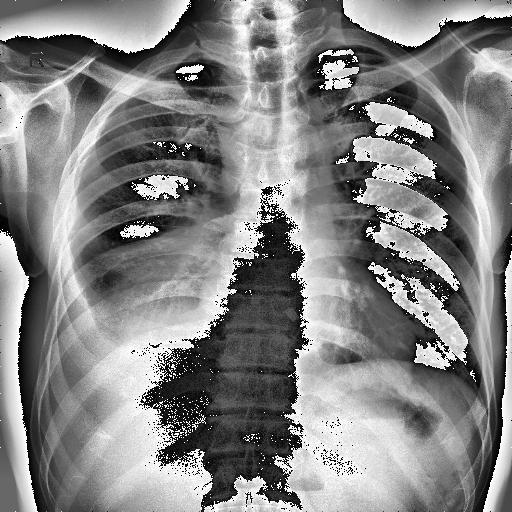10- Pleural effusion: (44, 247, 216, 388), (50, 231, 186, 384), (60, 266, 213, 392)
4- Consolidation: (94, 243, 199, 308)
6- Infiltration: (94, 243, 199, 308)
7- Lung Opacity: (85, 218, 228, 318), (100, 218, 224, 332), (94, 243, 199, 308)
